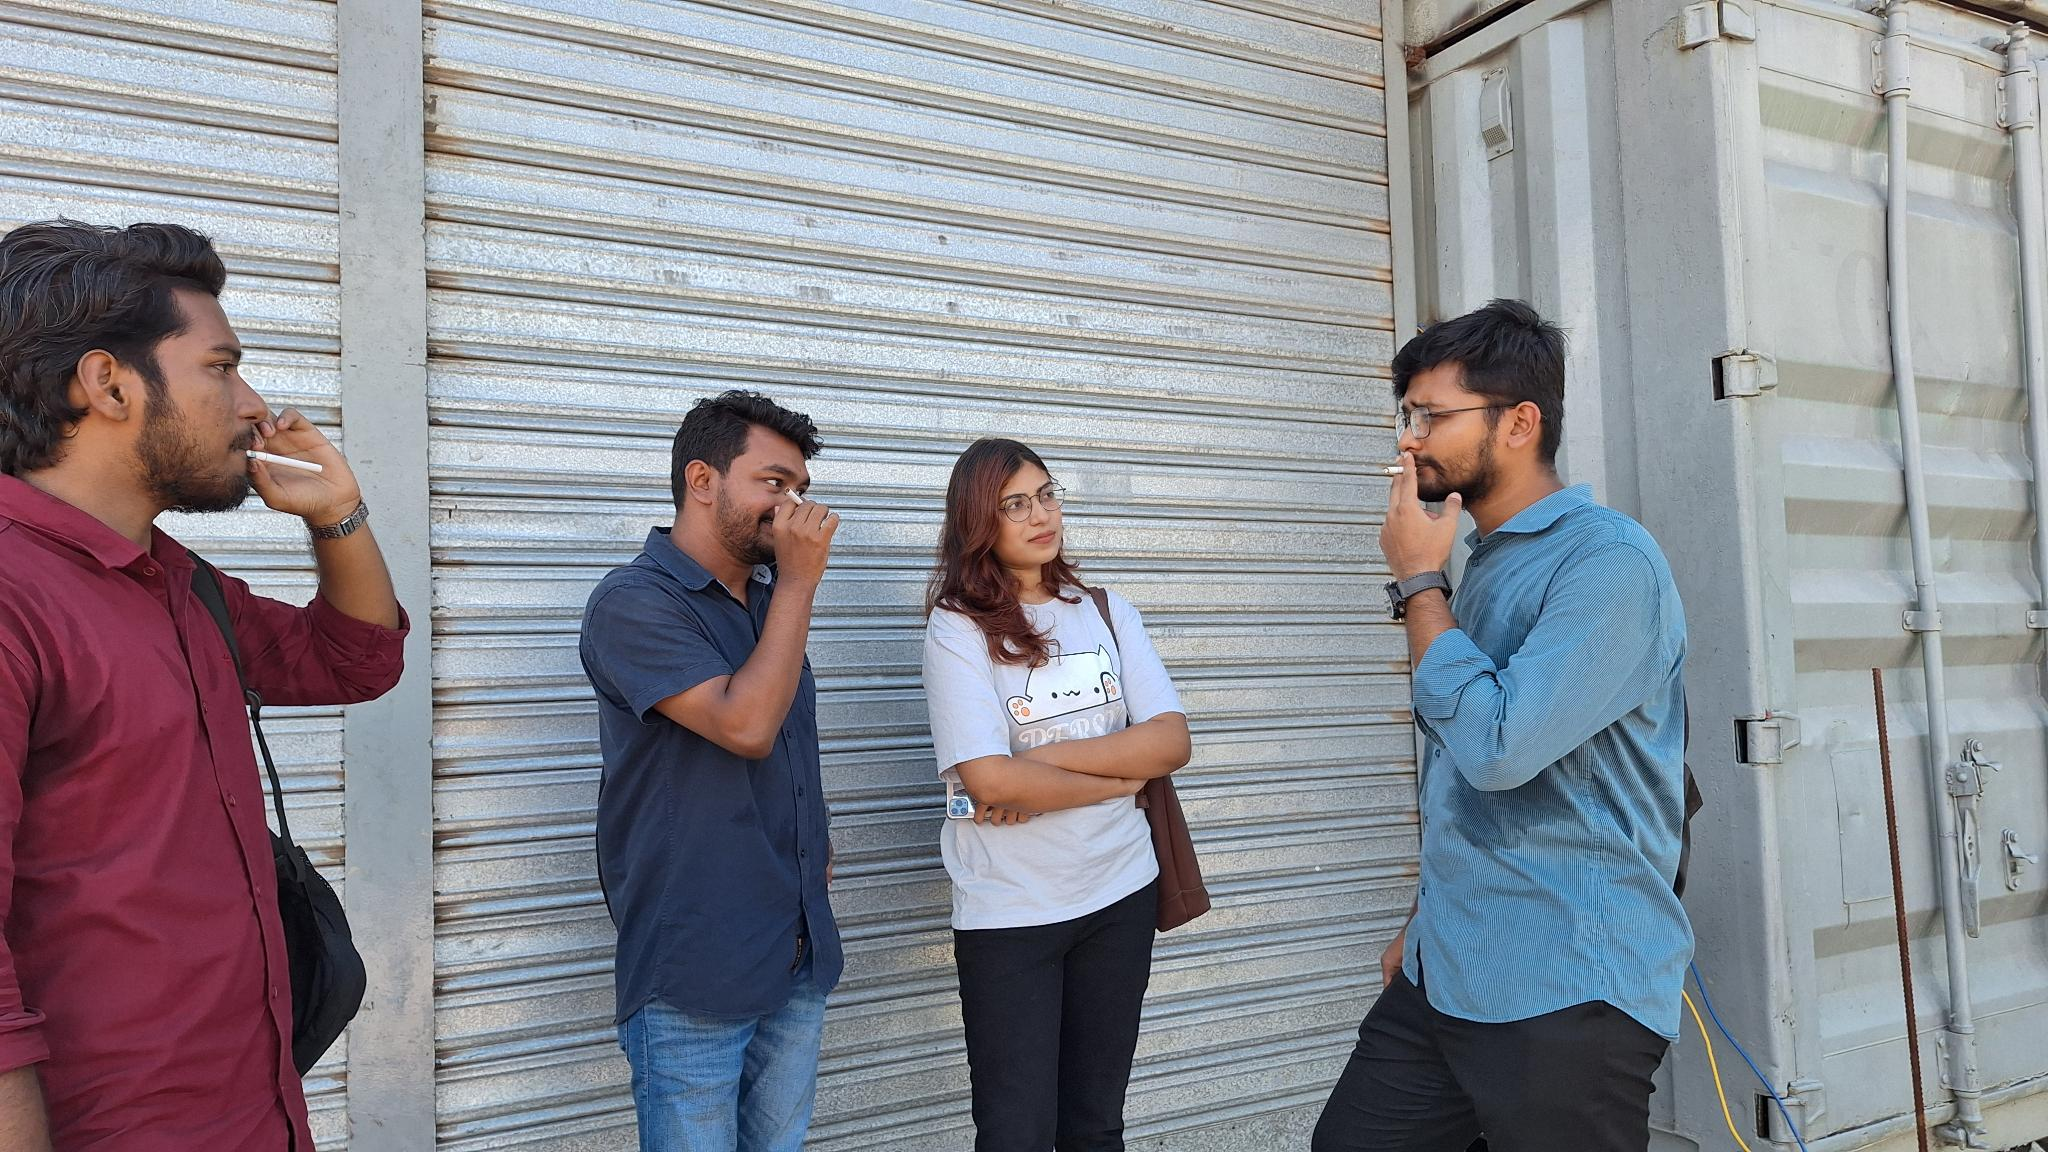cigarette: (243, 446, 325, 475), (782, 485, 806, 506), (1380, 464, 1407, 477)
nonSmoker: (921, 437, 1212, 1152)
smoker: (0, 221, 409, 1152), (1311, 298, 1703, 1152), (578, 392, 845, 1152)
